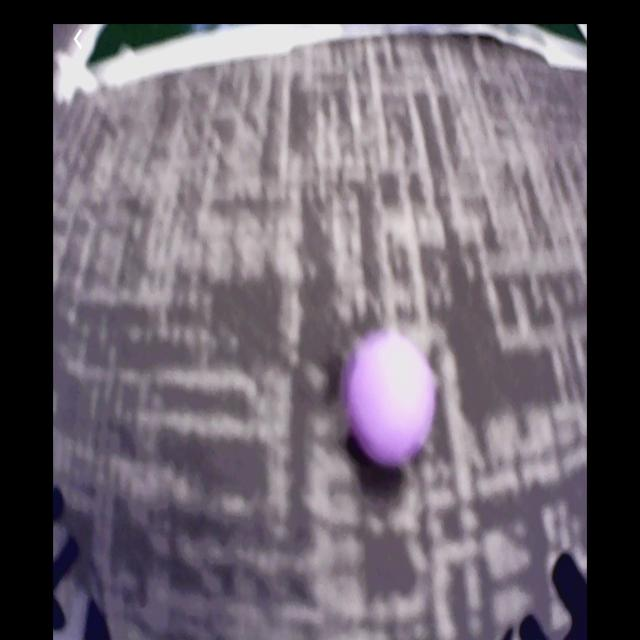ball: (349, 338, 436, 470)
